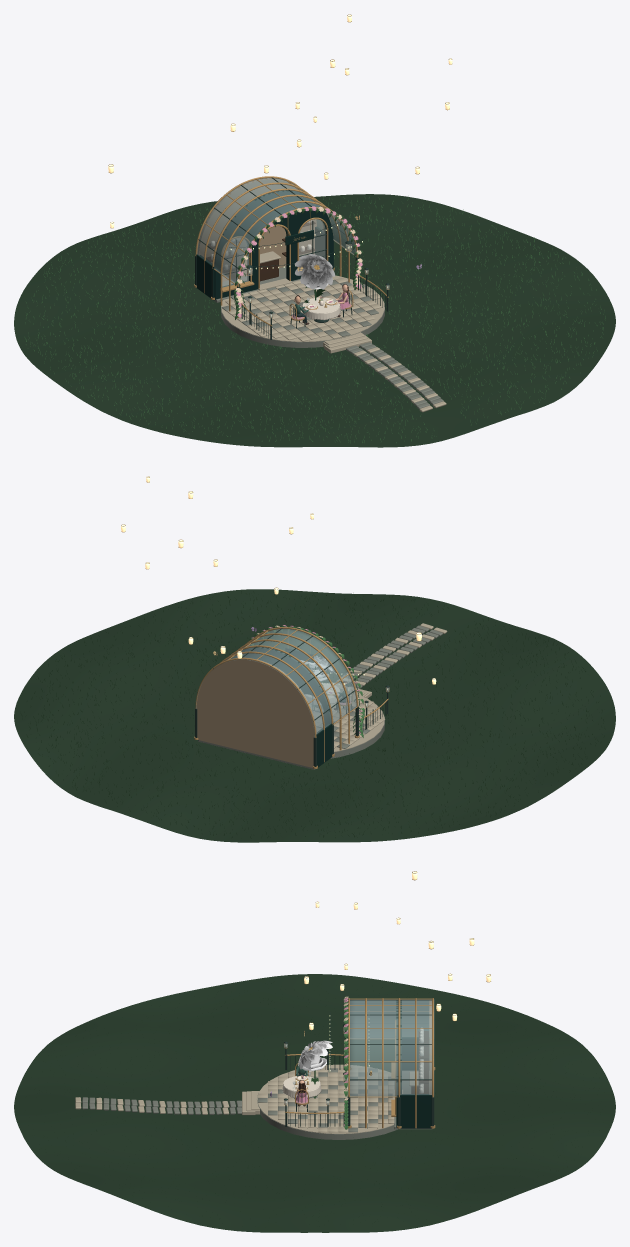
File: garden.glb
3 views of the same model, one above another, from view 1: azimuth 30°, elevation 25°; view 2: azimuth 150°, elevation 25°; view 3: azimuth 270°, elevation 25° (orthographic).
Parts seen in each view (by area): view 1: SF3D_Garden_terrain, SF3D_Meadow_blades, SF3D_Barrel_glass_roof, SF3D_Facade_structure, SF3D_Rear_structure, SF3D_Web_garden, SF3D_Terrace_stone, SF3D_Terrace_foundation, SF3D_window_right_glass, SF3D_Web_hero, SF3D_window_left_glass, SF3D_Service_nook_side_-1 (+1 smaller); view 2: SF3D_Garden_terrain, SF3D_Rear_structure, SF3D_Meadow_blades, SF3D_Barrel_glass_roof, SF3D_Facade_structure, SF3D_Service_nook_side_-1; view 3: SF3D_Garden_terrain, SF3D_Barrel_glass_roof, SF3D_Terrace_stone, SF3D_Service_nook_side_1, SF3D_Terrace_foundation, SF3D_Web_garden.
Part boxes in pixels (left/top/right/bottom): SF3D_Garden_terrain: left=14, top=194, right=615, bottom=447; SF3D_Meadow_blades: left=24, top=196, right=605, bottom=443; SF3D_Barrel_glass_roof: left=197, top=178, right=356, bottom=284; SF3D_Facade_structure: left=214, top=190, right=333, bottom=299; SF3D_Rear_structure: left=197, top=178, right=316, bottom=281; SF3D_Web_garden: left=295, top=254, right=335, bottom=302; SF3D_Terrace_stone: left=221, top=275, right=384, bottom=341; SF3D_Terrace_foundation: left=221, top=297, right=384, bottom=347; SF3D_window_right_glass: left=299, top=219, right=325, bottom=260; SF3D_Web_hero: left=294, top=254, right=334, bottom=302; SF3D_window_left_glass: left=222, top=238, right=248, bottom=287; SF3D_Service_nook_side_-1: left=196, top=254, right=214, bottom=300; SF3D_Garden_terrain: left=14, top=589, right=615, bottom=842; SF3D_Rear_structure: left=196, top=659, right=316, bottom=767; SF3D_Meadow_blades: left=20, top=591, right=605, bottom=838; SF3D_Barrel_glass_roof: left=196, top=629, right=356, bottom=737; SF3D_Facade_structure: left=231, top=647, right=330, bottom=725; SF3D_Service_nook_side_-1: left=316, top=723, right=333, bottom=767; SF3D_Garden_terrain: left=14, top=974, right=615, bottom=1232; SF3D_Barrel_glass_roof: left=350, top=999, right=434, bottom=1096; SF3D_Terrace_stone: left=257, top=1064, right=393, bottom=1134; SF3D_Service_nook_side_1: left=397, top=1094, right=432, bottom=1128; SF3D_Terrace_foundation: left=257, top=1088, right=397, bottom=1139; SF3D_Web_garden: left=298, top=1041, right=332, bottom=1097.
Bounding box in the file's own units: 30 × 12.42 × 30.
